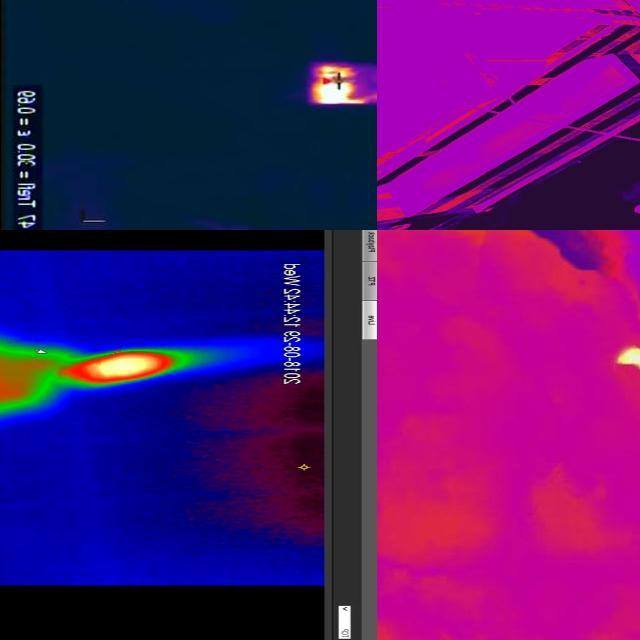fire: (58, 349, 202, 386), (308, 63, 378, 105), (617, 337, 640, 380)
